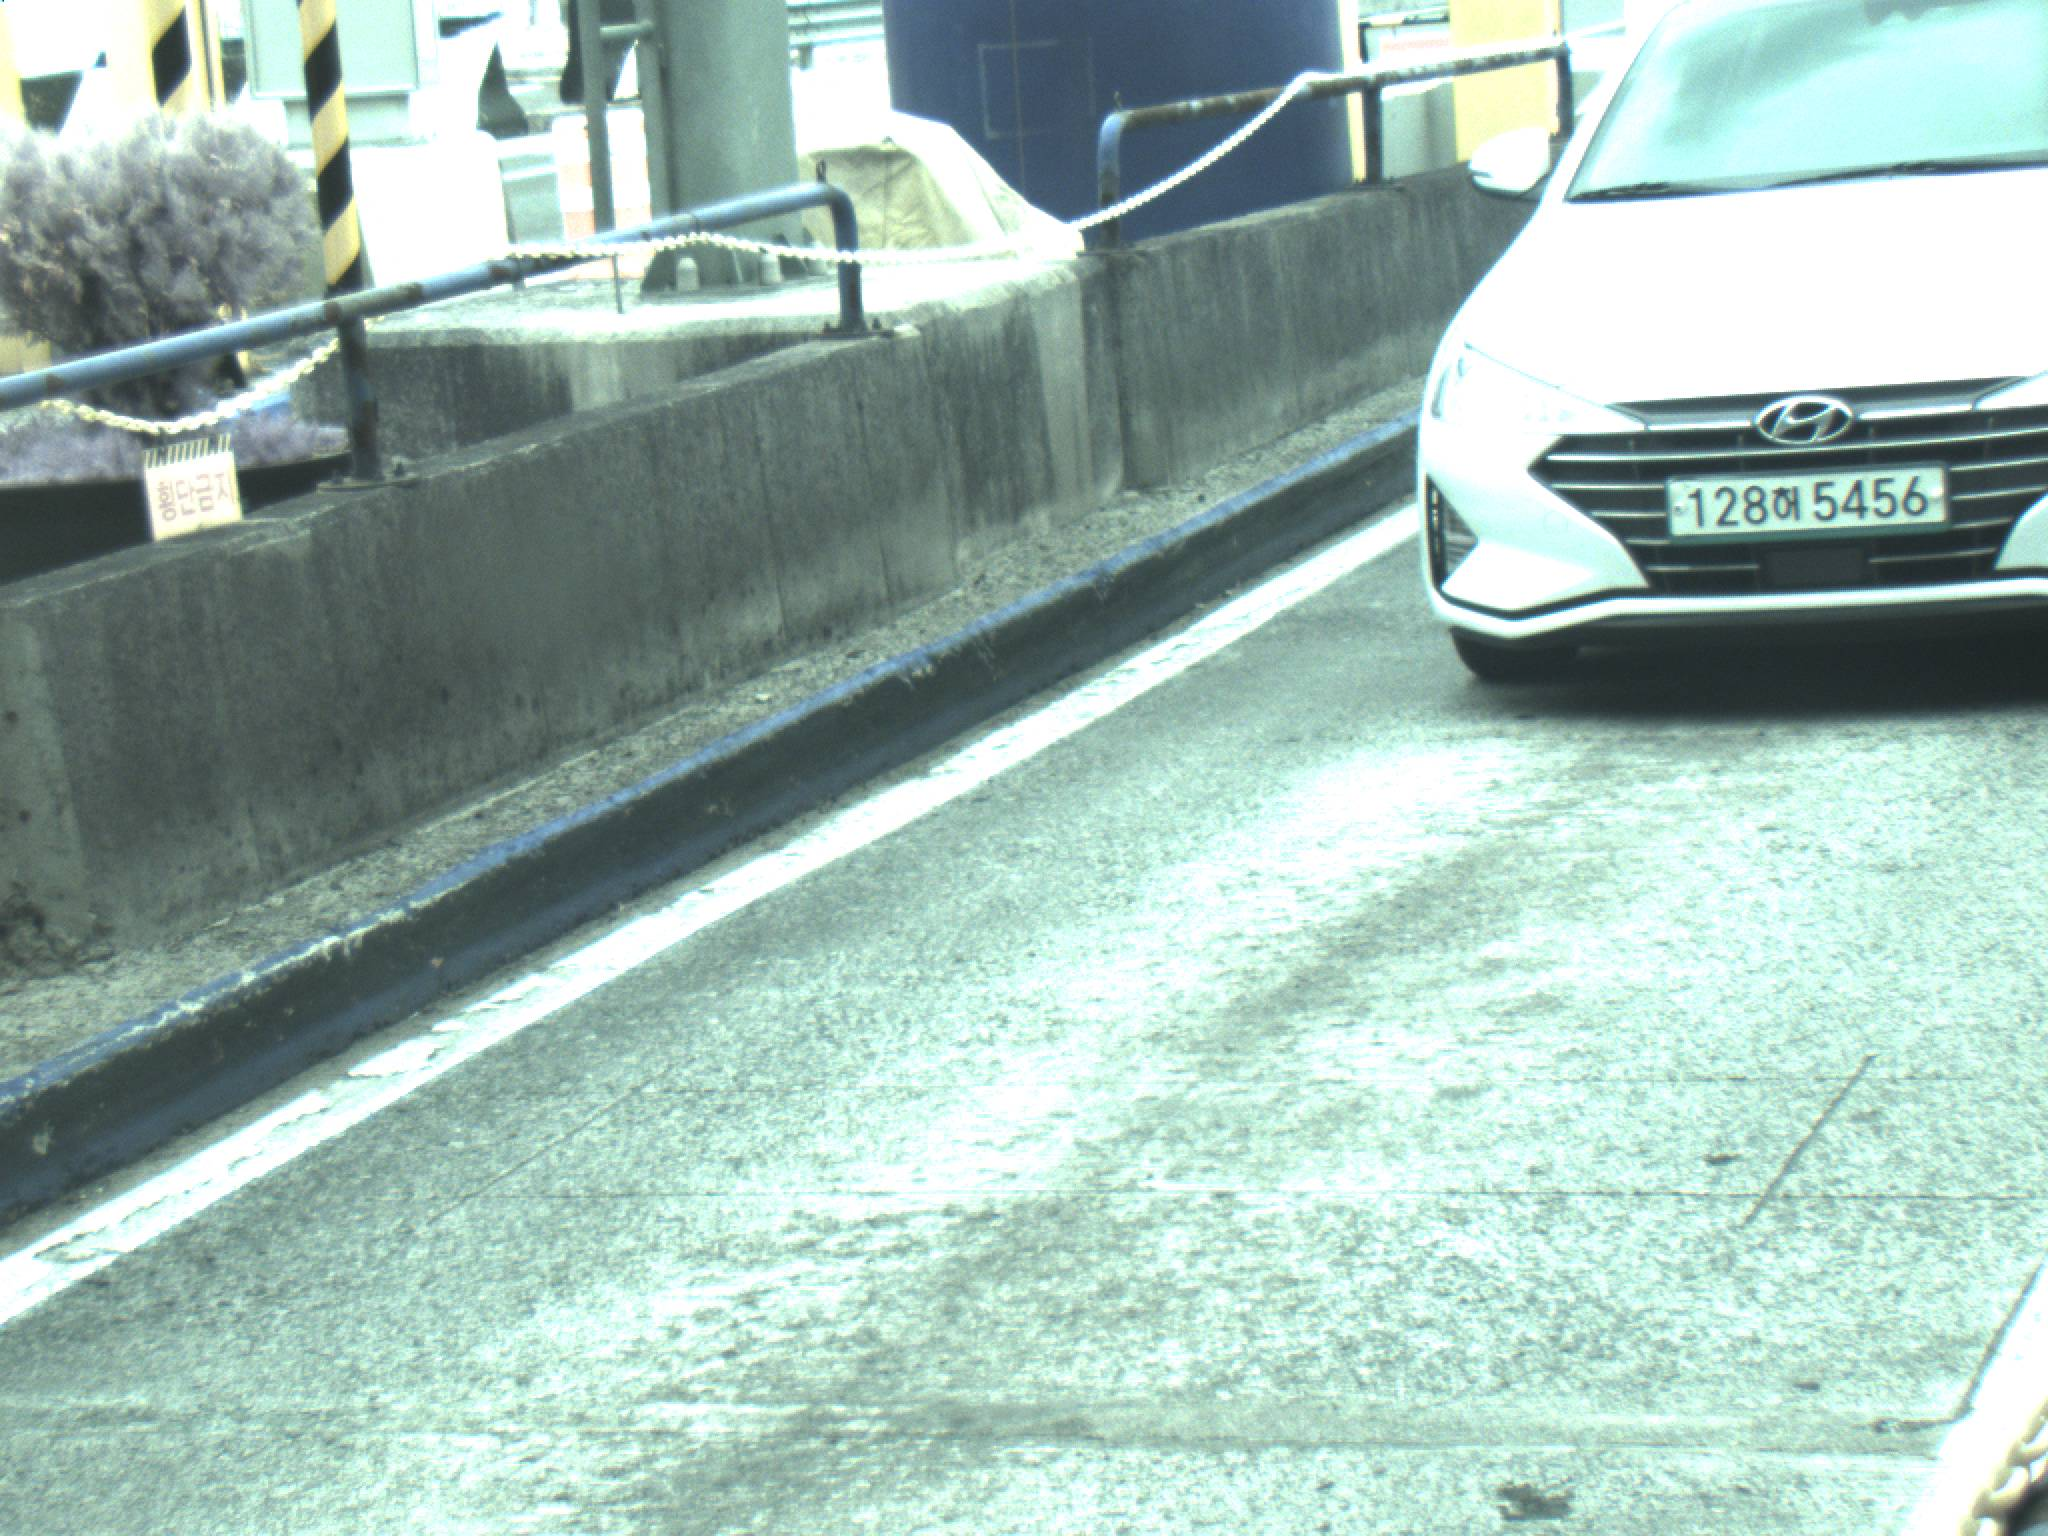car: (1419, 1, 2048, 687)
plate: (1663, 460, 1953, 538)
